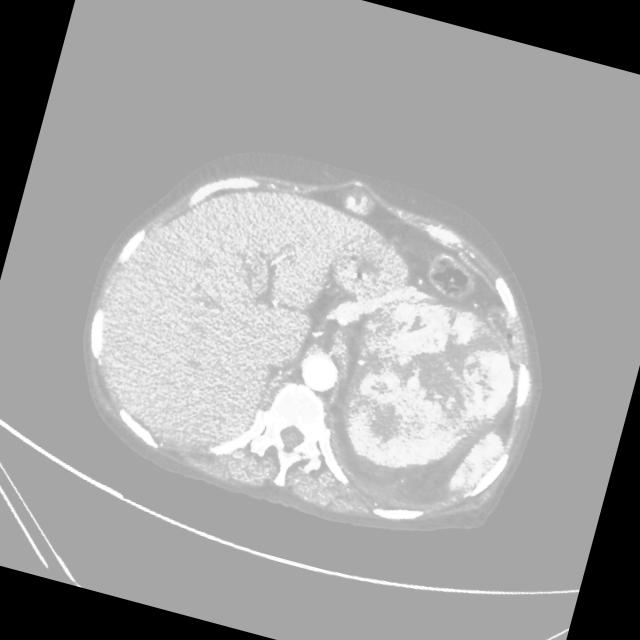TUMOR: (297, 284, 559, 537)
